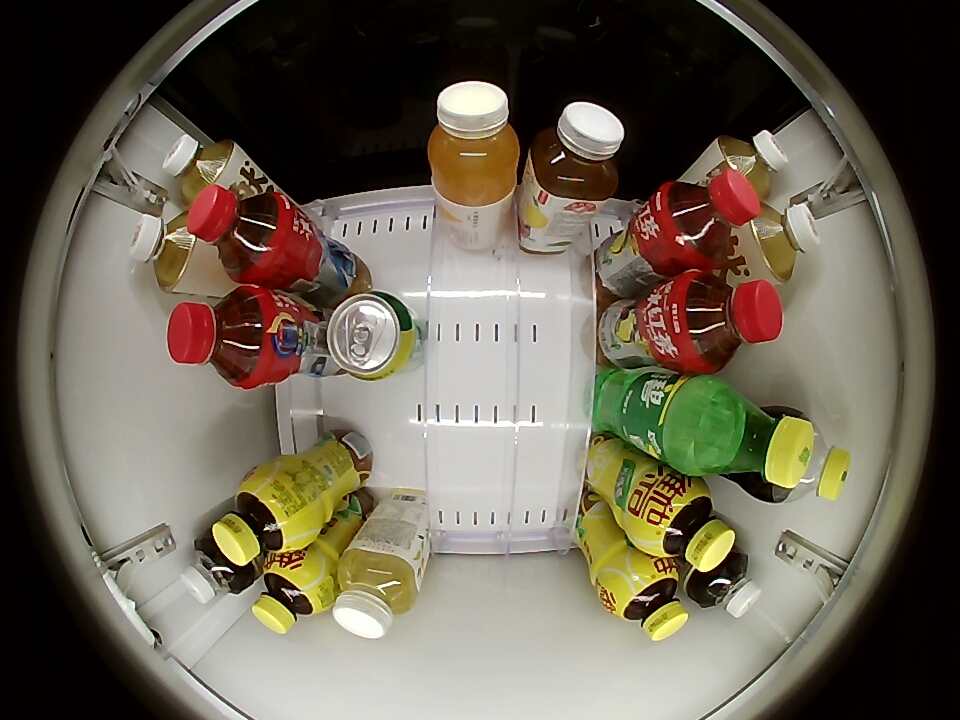baishikele: (773, 413, 851, 504)
binghongcha: (167, 285, 276, 390), (672, 271, 783, 374), (652, 167, 762, 268), (185, 184, 293, 283)
chapai: (527, 102, 625, 203)
chapai2: (333, 545, 422, 639)
rancha-2: (745, 202, 820, 284), (130, 212, 204, 293), (163, 133, 238, 203), (714, 129, 788, 199)
weic: (427, 81, 521, 208)
weitaningmeng-bottle: (638, 478, 737, 573), (212, 471, 308, 566), (606, 560, 688, 642), (253, 555, 329, 635)
wulongcha: (181, 534, 250, 604), (692, 553, 762, 619)
xuebi-b: (702, 388, 816, 492)
xuebi2: (326, 291, 419, 381)
